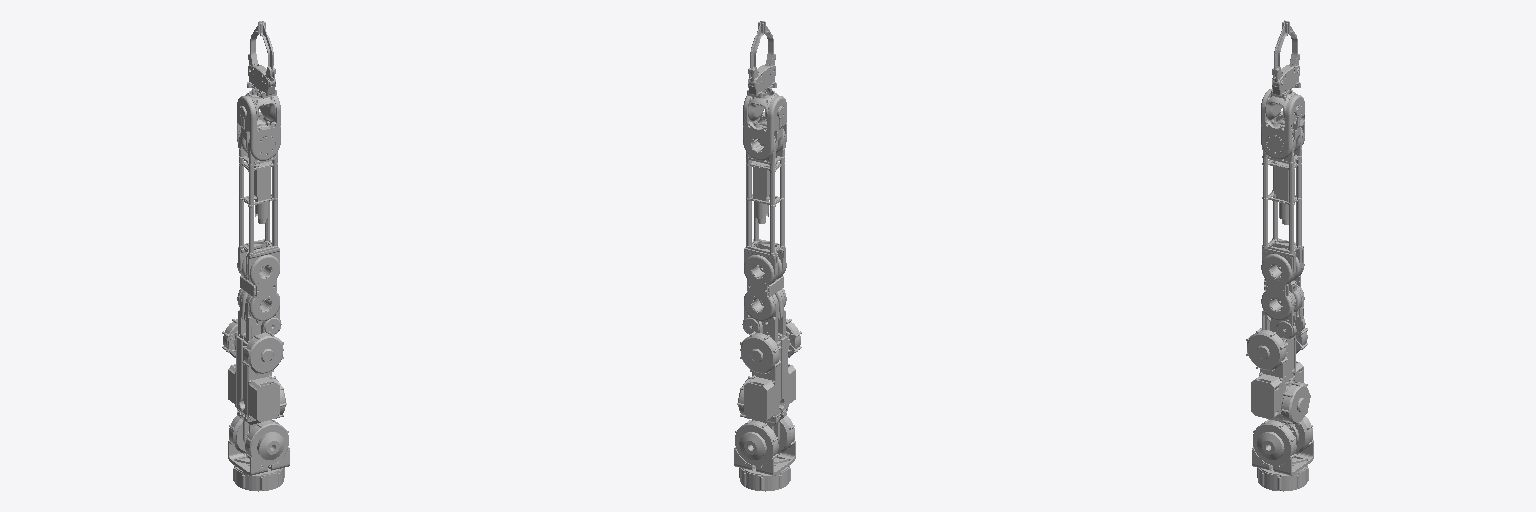
robot.urdf — LIMS_EX:
<?xml version="1.0" encoding="utf-8"?>
<!-- This URDF was automatically created by SolidWorks to URDF Exporter! Originally created by [author] ([email redacted]) 
     Commit Version: 1.6.0-4-g7f85cfe  Build Version: 1.6.7995.38578
     For more information, please see http://wiki.ros.org/sw_urdf_exporter -->
<robot
  name="LIMS_EX">
  <link
    name="base_link">
    <inertial>
      <origin
        xyz="0 0 0"
        rpy="0 0 0" />
      <mass
        value="0" />
      <inertia
        ixx="0"
        ixy="0"
        ixz="0"
        iyy="0"
        iyz="0"
        izz="0" />
    </inertial>
    <visual>
      <origin
        xyz="0 0 0"
        rpy="0 0 0" />
      <geometry>
        <mesh
          filename="package://LIMS_EX/meshes/base_link.STL" />
      </geometry>
      <material
        name="">
        <color
          rgba="0.75294 0.75294 0.75294 1" />
      </material>
    </visual>
    <collision>
      <origin
        xyz="0 0 0"
        rpy="0 0 0" />
      <geometry>
        <mesh
          filename="package://LIMS_EX/meshes/base_link.STL" />
      </geometry>
    </collision>
  </link>
  <link
    name="link1">
    <inertial>
      <origin
        xyz="0 0 0"
        rpy="0 0 0" />
      <mass
        value="0" />
      <inertia
        ixx="0"
        ixy="0"
        ixz="0"
        iyy="0"
        iyz="0"
        izz="0" />
    </inertial>
    <visual>
      <origin
        xyz="0 0 0"
        rpy="0 0 0" />
      <geometry>
        <mesh
          filename="package://LIMS_EX/meshes/link1.STL" />
      </geometry>
      <material
        name="">
        <color
          rgba="0.75294 0.75294 0.75294 1" />
      </material>
    </visual>
    <collision>
      <origin
        xyz="0 0 0"
        rpy="0 0 0" />
      <geometry>
        <mesh
          filename="package://LIMS_EX/meshes/link1.STL" />
      </geometry>
    </collision>
  </link>
  <joint
    name="SY"
    type="revolute">
    <origin
      xyz="0 0 0.0535"
      rpy="0 0 0" />
    <parent
      link="base_link" />
    <child
      link="link1" />
    <axis
      xyz="0 0 1" />
    <limit
      lower="-3.0543"
      upper="3.0543"
      effort="100"
      velocity="1" />
  </joint>
  <link
    name="link2">
    <inertial>
      <origin
        xyz="0 0 0"
        rpy="0 0 0" />
      <mass
        value="0" />
      <inertia
        ixx="0"
        ixy="0"
        ixz="0"
        iyy="0"
        iyz="0"
        izz="0" />
    </inertial>
    <visual>
      <origin
        xyz="0 0 0"
        rpy="0 0 0" />
      <geometry>
        <mesh
          filename="package://LIMS_EX/meshes/link2.STL" />
      </geometry>
      <material
        name="">
        <color
          rgba="0.75294 0.75294 0.75294 1" />
      </material>
    </visual>
    <collision>
      <origin
        xyz="0 0 0"
        rpy="0 0 0" />
      <geometry>
        <mesh
          filename="package://LIMS_EX/meshes/link2.STL" />
      </geometry>
    </collision>
  </link>
  <joint
    name="SP"
    type="revolute">
    <origin
      xyz="0 0 0.069"
      rpy="-1.5708 0 0" />
    <parent
      link="link1" />
    <child
      link="link2" />
    <axis
      xyz="0 0 1" />
    <limit
      lower="-1.5708"
      upper="1.5708"
      effort="100"
      velocity="1" />
  </joint>
  <link
    name="link3">
    <inertial>
      <origin
        xyz="0 0 0"
        rpy="0 0 0" />
      <mass
        value="0" />
      <inertia
        ixx="0"
        ixy="0"
        ixz="0"
        iyy="0"
        iyz="0"
        izz="0" />
    </inertial>
    <visual>
      <origin
        xyz="0 0 0"
        rpy="0 0 0" />
      <geometry>
        <mesh
          filename="package://LIMS_EX/meshes/link3.STL" />
      </geometry>
      <material
        name="">
        <color
          rgba="0.75294 0.75294 0.75294 1" />
      </material>
    </visual>
    <collision>
      <origin
        xyz="0 0 0"
        rpy="0 0 0" />
      <geometry>
        <mesh
          filename="package://LIMS_EX/meshes/link3.STL" />
      </geometry>
    </collision>
  </link>
  <joint
    name="EB1"
    type="revolute">
    <origin
      xyz="0 -0.345 0"
      rpy="0 0 -1.5708" />
    <parent
      link="link2" />
    <child
      link="link3" />
    <axis
      xyz="0 0 1" />
    <limit
      lower="0"
      upper="1.5708"
      effort="100"
      velocity="1" />
  </joint>
  <link
    name="link4">
    <inertial>
      <origin
        xyz="0 0 0"
        rpy="0 0 0" />
      <mass
        value="0" />
      <inertia
        ixx="0"
        ixy="0"
        ixz="0"
        iyy="0"
        iyz="0"
        izz="0" />
    </inertial>
    <visual>
      <origin
        xyz="0 0 0"
        rpy="0 0 0" />
      <geometry>
        <mesh
          filename="package://LIMS_EX/meshes/link4.STL" />
      </geometry>
      <material
        name="">
        <color
          rgba="0.75294 0.75294 0.75294 1" />
      </material>
    </visual>
    <collision>
      <origin
        xyz="0 0 0"
        rpy="0 0 0" />
      <geometry>
        <mesh
          filename="package://LIMS_EX/meshes/link4.STL" />
      </geometry>
    </collision>
  </link>
  <joint
    name="EB2"
    type="revolute">
    <origin
      xyz="0.085 0 0"
      rpy="0 0 0" />
    <parent
      link="link3" />
    <child
      link="link4" />
    <axis
      xyz="0 0 1" />
    <limit
      lower="0"
      upper="1.5708"
      effort="100"
      velocity="1" />
  </joint>
  <link
    name="link5">
    <inertial>
      <origin
        xyz="0 0 0"
        rpy="0 0 0" />
      <mass
        value="0" />
      <inertia
        ixx="0"
        ixy="0"
        ixz="0"
        iyy="0"
        iyz="0"
        izz="0" />
    </inertial>
    <visual>
      <origin
        xyz="0 0 0"
        rpy="0 0 0" />
      <geometry>
        <mesh
          filename="package://LIMS_EX/meshes/link5.STL" />
      </geometry>
      <material
        name="">
        <color
          rgba="0.75294 0.75294 0.75294 1" />
      </material>
    </visual>
    <collision>
      <origin
        xyz="0 0 0"
        rpy="0 0 0" />
      <geometry>
        <mesh
          filename="package://LIMS_EX/meshes/link5.STL" />
      </geometry>
    </collision>
  </link>
  <joint
    name="WP"
    type="revolute">
    <origin
      xyz="0.32 0 0"
      rpy="0 0 0" />
    <parent
      link="link4" />
    <child
      link="link5" />
    <axis
      xyz="0 0 1" />
    <limit
      lower="-1.5708"
      upper="1.5708"
      effort="100"
      velocity="1" />
  </joint>
  <link
    name="link6">
    <inertial>
      <origin
        xyz="0 0 0"
        rpy="0 0 0" />
      <mass
        value="0" />
      <inertia
        ixx="0"
        ixy="0"
        ixz="0"
        iyy="0"
        iyz="0"
        izz="0" />
    </inertial>
    <visual>
      <origin
        xyz="0 0 0"
        rpy="0 0 0" />
      <geometry>
        <mesh
          filename="package://LIMS_EX/meshes/link6.STL" />
      </geometry>
      <material
        name="">
        <color
          rgba="0.75294 0.75294 0.75294 1" />
      </material>
    </visual>
    <collision>
      <origin
        xyz="0 0 0"
        rpy="0 0 0" />
      <geometry>
        <mesh
          filename="package://LIMS_EX/meshes/link6.STL" />
      </geometry>
    </collision>
  </link>
  <joint
    name="WR"
    type="revolute">
    <origin
      xyz="0.08 0 0"
      rpy="-1.5708 0 0" />
    <parent
      link="link5" />
    <child
      link="link6" />
    <axis
      xyz="0 0 1" />
    <limit
      lower="-1.5708"
      upper="1.5708"
      effort="100"
      velocity="1" />
  </joint>
  <link
    name="gripper">
    <inertial>
      <origin
        xyz="0 0 0"
        rpy="0 0 0" />
      <mass
        value="0" />
      <inertia
        ixx="0"
        ixy="0"
        ixz="0"
        iyy="0"
        iyz="0"
        izz="0" />
    </inertial>
    <visual>
      <origin
        xyz="0 0 0"
        rpy="0 0 0" />
      <geometry>
        <mesh
          filename="package://LIMS_EX/meshes/gripper.STL" />
      </geometry>
      <material
        name="">
        <color
          rgba="0.75294 0.75294 0.75294 1" />
      </material>
    </visual>
    <collision>
      <origin
        xyz="0 0 0"
        rpy="0 0 0" />
      <geometry>
        <mesh
          filename="package://LIMS_EX/meshes/gripper.STL" />
      </geometry>
    </collision>
  </link>
  <joint
    name="WY"
    type="revolute">
    <origin
      xyz="0.037998 0 0"
      rpy="-1.5708 0 -1.5708" />
    <parent
      link="link6" />
    <child
      link="gripper" />
    <axis
      xyz="0 0 1" />
    <limit
      lower="-3.0543"
      upper="3.0543"
      effort="100"
      velocity="1" />
  </joint>
  <link
    name="right_finger">
    <inertial>
      <origin
        xyz="0 0 0"
        rpy="0 0 0" />
      <mass
        value="0" />
      <inertia
        ixx="0"
        ixy="0"
        ixz="0"
        iyy="0"
        iyz="0"
        izz="0" />
    </inertial>
    <visual>
      <origin
        xyz="0 0 0"
        rpy="0 0 0" />
      <geometry>
        <mesh
          filename="package://LIMS_EX/meshes/right_finger.STL" />
      </geometry>
      <material
        name="">
        <color
          rgba="0.75294 0.75294 0.75294 1" />
      </material>
    </visual>
    <collision>
      <origin
        xyz="0 0 0"
        rpy="0 0 0" />
      <geometry>
        <mesh
          filename="package://LIMS_EX/meshes/right_finger.STL" />
      </geometry>
    </collision>
  </link>
  <joint
    name="RF"
    type="revolute">
    <origin
      xyz="0.036046 -0.008 0.042128"
      rpy="1.5708 0 -3.1416" />
    <parent
      link="gripper" />
    <child
      link="right_finger" />
    <axis
      xyz="0 0 1" />
    <limit
      lower="0"
      upper="1.5708"
      effort="10"
      velocity="1" />
  </joint>
  <link
    name="left_finger">
    <inertial>
      <origin
        xyz="0 0 0"
        rpy="0 0 0" />
      <mass
        value="0" />
      <inertia
        ixx="0"
        ixy="0"
        ixz="0"
        iyy="0"
        iyz="0"
        izz="0" />
    </inertial>
    <visual>
      <origin
        xyz="0 0 0"
        rpy="0 0 0" />
      <geometry>
        <mesh
          filename="package://LIMS_EX/meshes/left_finger.STL" />
      </geometry>
      <material
        name="">
        <color
          rgba="0.75294 0.75294 0.75294 1" />
      </material>
    </visual>
    <collision>
      <origin
        xyz="0 0 0"
        rpy="0 0 0" />
      <geometry>
        <mesh
          filename="package://LIMS_EX/meshes/left_finger.STL" />
      </geometry>
    </collision>
  </link>
  <joint
    name="LF"
    type="revolute">
    <origin
      xyz="-0.035954 -0.008 0.042128"
      rpy="1.5708 0 0" />
    <parent
      link="gripper" />
    <child
      link="left_finger" />
    <axis
      xyz="0 0 1" />
    <limit
      lower="0"
      upper="1.5708"
      effort="10"
      velocity="1" />
  </joint>
</robot>

--- Facts derived from the render (not from the file) ---
Views: 3 orthographic renders of the robot side by side, from view 1: azimuth 30°, elevation 25°; view 2: azimuth 150°, elevation 25°; view 3: azimuth 330°, elevation 25°.
Model LIMS_EX with 10 links and 9 joints (9 revolute), rooted at base_link, posed all joints at 0.
Links seen in each view (by area): view 1: link2, link4, link1, link3, link5, base_link, gripper; view 2: link2, link4, link1, link3, link5, base_link, gripper; view 3: link2, link4, link1, link3, link5, base_link, gripper.
Link boxes in pixels (x1,y1,x2,y2): link2: [222, 289, 286, 443]; link4: [238, 119, 279, 283]; link1: [228, 415, 289, 475]; link3: [237, 249, 279, 320]; link5: [237, 95, 280, 160]; base_link: [233, 465, 284, 491]; gripper: [247, 64, 276, 98]; link2: [737, 289, 801, 443]; link4: [744, 119, 785, 283]; link1: [734, 415, 795, 475]; link3: [744, 249, 786, 320]; link5: [743, 95, 786, 160]; base_link: [739, 465, 790, 491]; gripper: [747, 64, 776, 97]; link2: [1246, 285, 1310, 443]; link4: [1262, 118, 1303, 282]; link1: [1252, 416, 1313, 475]; link3: [1261, 248, 1304, 320]; link5: [1261, 89, 1304, 159]; base_link: [1257, 465, 1308, 491]; gripper: [1271, 64, 1300, 98].
Size in the robot's own frame: 0.1199 by 0.1349 by 1.17 metres.
Meshes: 10 distinct files referenced, 10 mesh visuals loaded (10 binary STL).